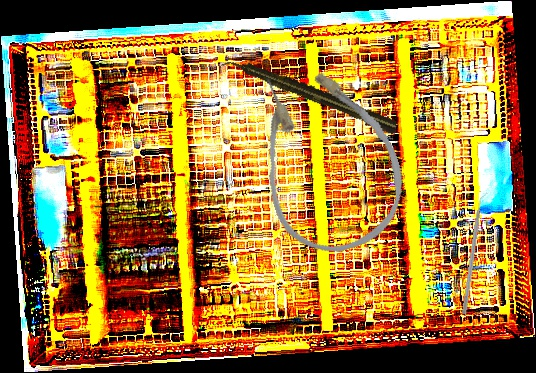Cannula: (233, 46, 421, 268)
Chopper: (461, 191, 491, 316)
Handpiece: (220, 50, 401, 138)
